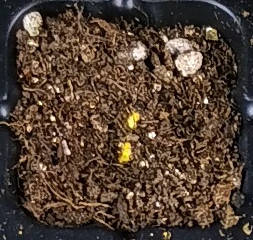pepper seed: (49, 59, 183, 223), (54, 44, 196, 173)
